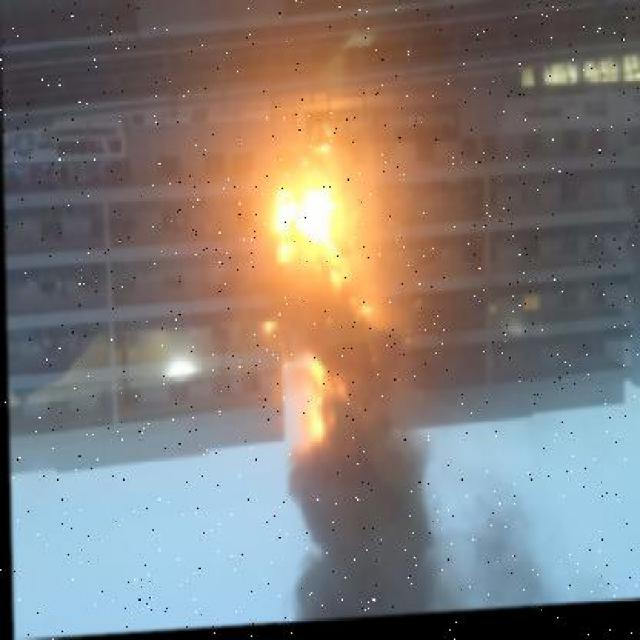fire: (261, 149, 363, 348)
